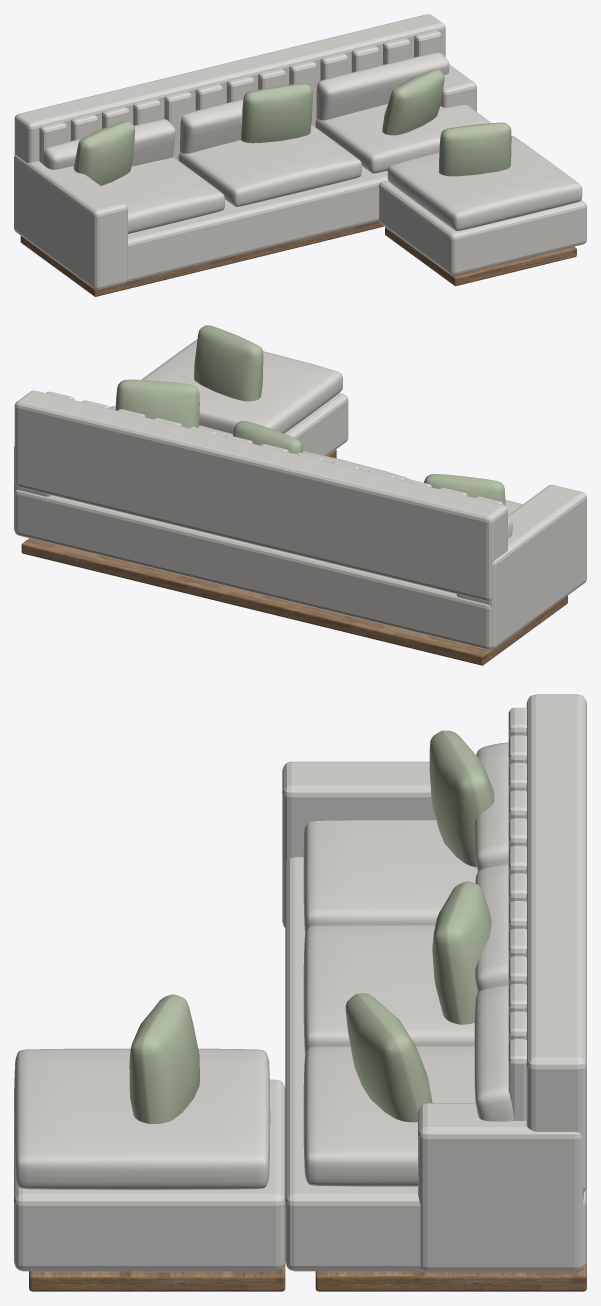
The model's file is sofa-sectional-white.glb.
3 views of the same model, one above another, from view 1: azimuth 30°, elevation 25°; view 2: azimuth 150°, elevation 25°; view 3: azimuth 270°, elevation 25° (orthographic). The views are drawn at different scales.
Parts seen in each view (by area): view 1: seat_base, arm_west, back_panel, chaise_cushion, chaise_base, seat_cushion_1, seat_cushion_0, seat_cushion_2, back_cushion_2, pillow_sage_1, pillow_sage_3, pillow_sage_0 (+19 smaller); view 2: back_panel, seat_base, arm_west, base_plinth_run, chaise_cushion, pillow_sage_3, pillow_sage_2, chaise_base, pillow_sage_0, pillow_sage_1; view 3: chaise_cushion, back_panel, arm_east, chaise_base, seat_base, seat_cushion_0, seat_cushion_2, seat_cushion_1, arm_west, pillow_sage_3, pillow_sage_2, pillow_sage_1 (+7 smaller).
Part boxes in pixels (box(x1,y1,x2,y2)): seat_base: box(127, 166, 387, 282); arm_west: box(14, 155, 127, 290); back_panel: box(14, 14, 445, 162); chaise_cushion: box(387, 136, 582, 230); chaise_base: box(379, 180, 586, 275); seat_cushion_1: box(178, 124, 361, 206); seat_cushion_0: box(101, 157, 224, 233); seat_cushion_2: box(315, 104, 491, 173); back_cushion_2: box(316, 52, 449, 120); pillow_sage_1: box(240, 83, 312, 143); pillow_sage_3: box(439, 122, 511, 176); pillow_sage_0: box(73, 121, 135, 185); back_panel: box(14, 390, 507, 601); seat_base: box(14, 490, 491, 649); arm_west: box(456, 484, 586, 649); base_plinth_run: box(21, 538, 567, 665); chaise_cushion: box(141, 339, 342, 433); pillow_sage_3: box(194, 325, 263, 401); pillow_sage_2: box(115, 379, 199, 427); chaise_base: box(284, 393, 348, 455); pillow_sage_0: box(424, 473, 505, 505); pillow_sage_1: box(233, 421, 302, 453); chaise_cushion: box(14, 1048, 270, 1189); back_panel: box(526, 694, 586, 1192); arm_east: box(418, 1103, 583, 1272); chaise_base: box(14, 1079, 285, 1271); seat_base: box(285, 857, 586, 1271); seat_cushion_0: box(303, 820, 477, 933); seat_cushion_2: box(303, 1045, 475, 1186); seat_cushion_1: box(303, 924, 474, 1054); arm_west: box(282, 761, 435, 927); pillow_sage_3: box(129, 994, 199, 1124); pillow_sage_2: box(345, 993, 432, 1122); pillow_sage_1: box(432, 881, 491, 1024).
Size of the model in its own units: 2.92 by 0.8701 by 1.9.
Materials: 3 (1 with a texture image).
